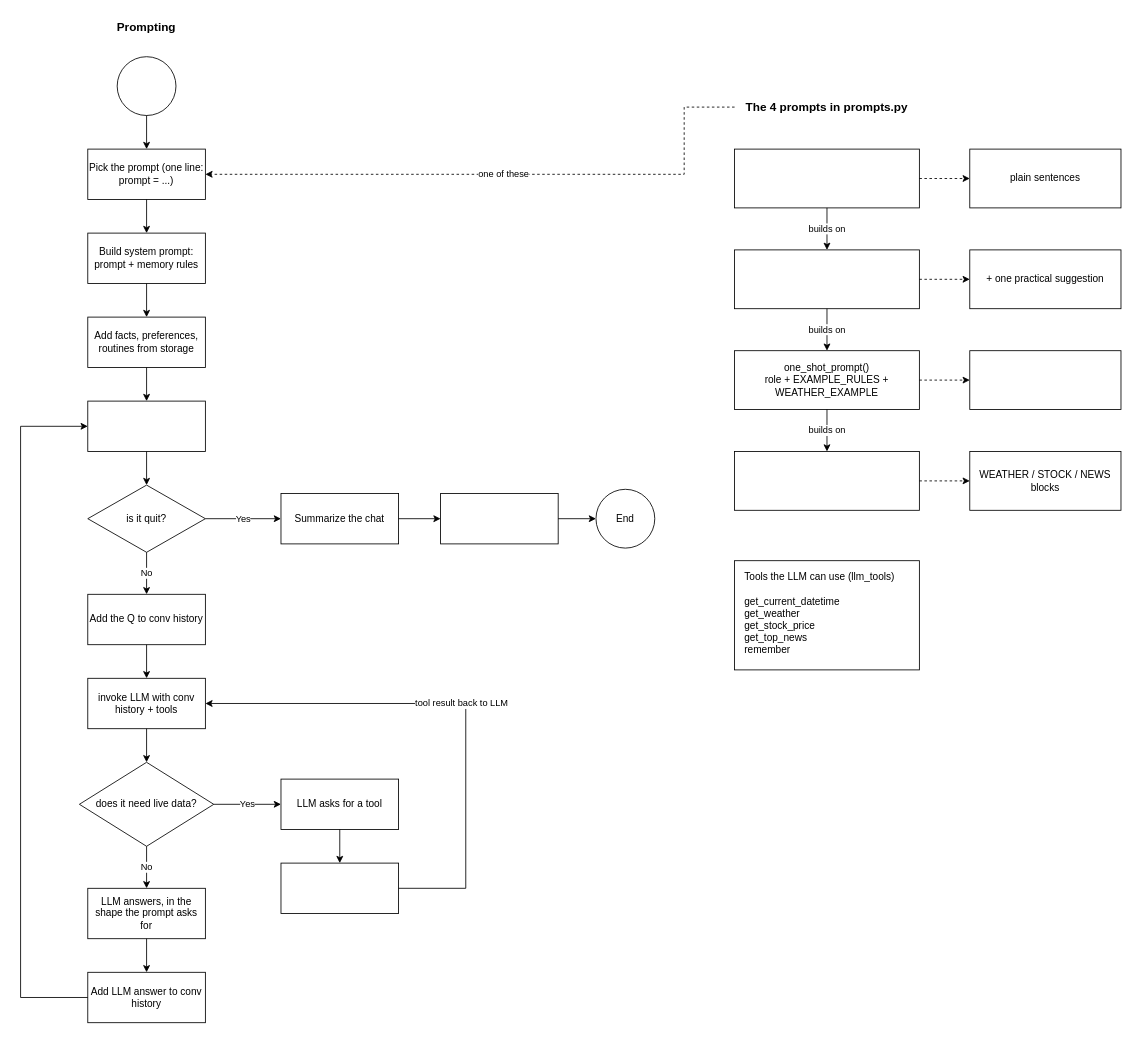
Image size: 1136x1037. Some labels were removed from this diagram. Here are the shapes that lost their labels. From the top down, the centre of each, then its label:
the point at 146,86: Start
the point at 826,178: zero_shot_prompt() INSTRUCTIONS (zero examples)
the point at 826,279: role_prompt() ROLE + zero-shot
the point at 1045,380: WEATHER block, the rest still free shape
the point at 146,426: user sends a Q
the point at 826,480: few_shot_prompt() one-shot + STOCK_EXAMPLE + NEWS_EXAMPLE
the point at 499,518: Store chat summary
the point at 339,888: Our code runs the tool
